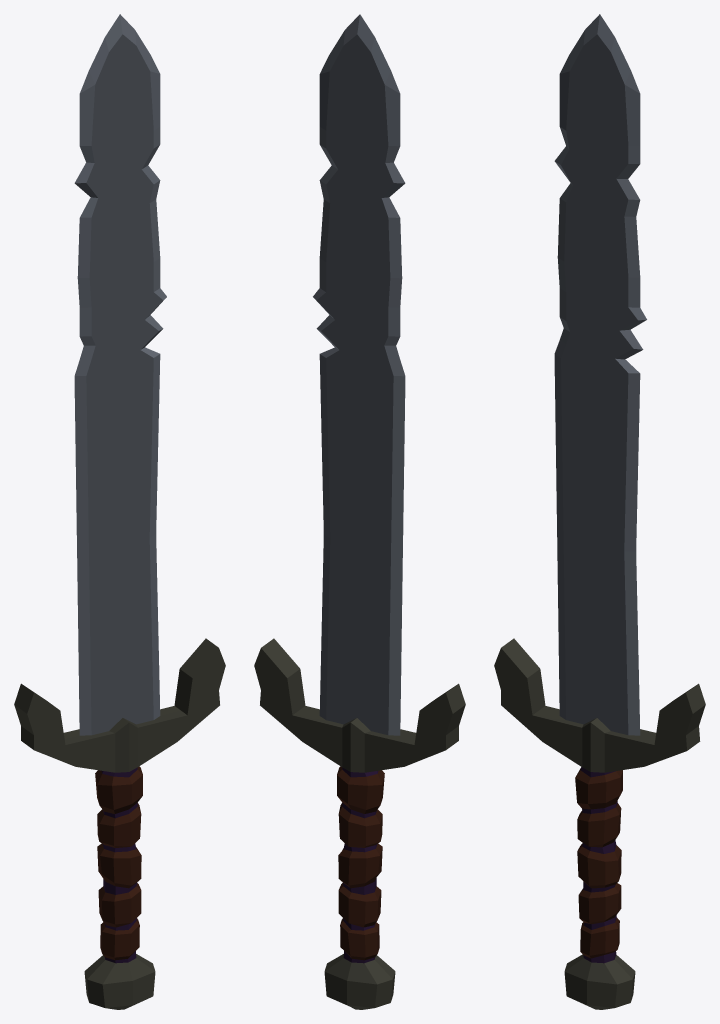
File: Sword.glb
3 renders of one model, left to right at view 1: azimuth 30°, elevation 25°; view 2: azimuth 150°, elevation 25°; view 3: azimuth 330°, elevation 25°, orthographic.
Visible parts, largest first — view 1: Sword; view 2: Sword; view 3: Sword.
Part boxes in pixels (x1=…): Sword: x1=14, y1=14, x2=225, y2=1009; Sword: x1=254, y1=14, x2=465, y2=1009; Sword: x1=494, y1=14, x2=705, y2=1009.
Bounding box in the file's own units: 0.1299 × 0.62 × 0.0297.
